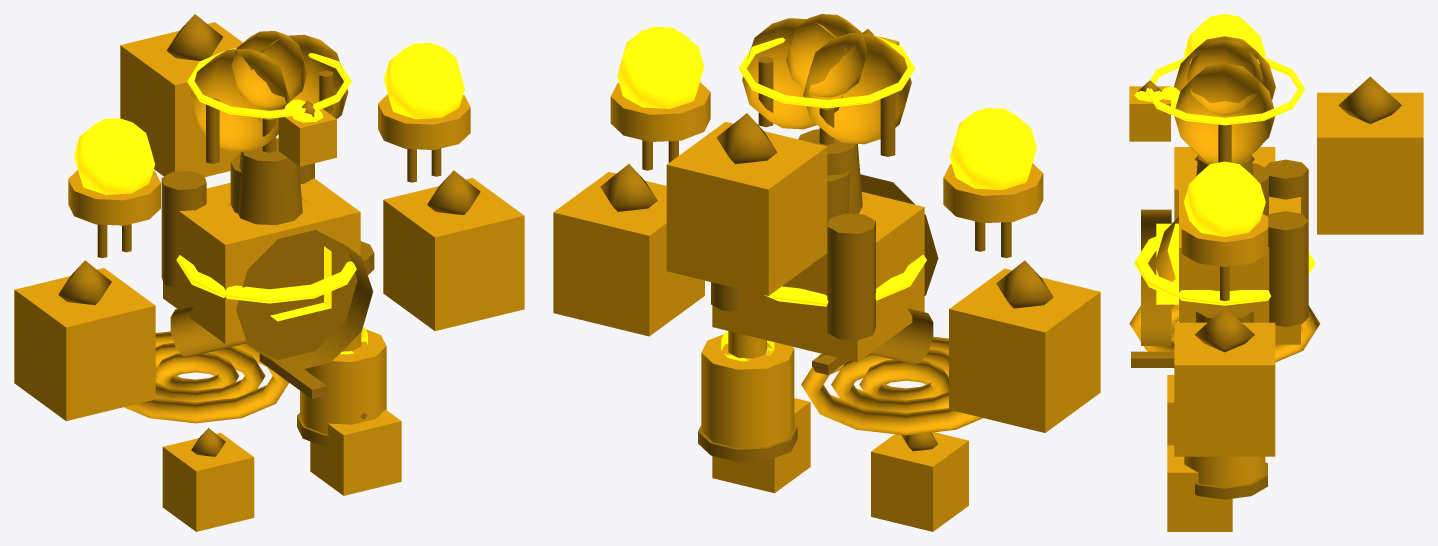
File: golem_109.glb
3 views of the same model, side by side, from view 1: azimuth 30°, elevation 25°; view 2: azimuth 150°, elevation 25°; view 3: azimuth 270°, elevation 25° (orthographic). The views are drawn at different scales.
Parts seen in each view (by area): view 1: Body, Detail, Glow; view 2: Body, Detail, Glow; view 3: Body, Detail, Glow.
Boxes of the visible parts, x1,y1,x2,y2 form: Body: (14,22,524,531); Detail: (58,14,480,456); Glow: (74,42,464,354); Body: (553,14,1100,531); Detail: (600,29,1053,461); Glow: (617,26,1036,361); Body: (1129,36,1423,531); Detail: (1131,76,1401,499); Glow: (1134,14,1315,305).
Size of the model in its own units: 1.14 by 1.08 by 0.6519.
